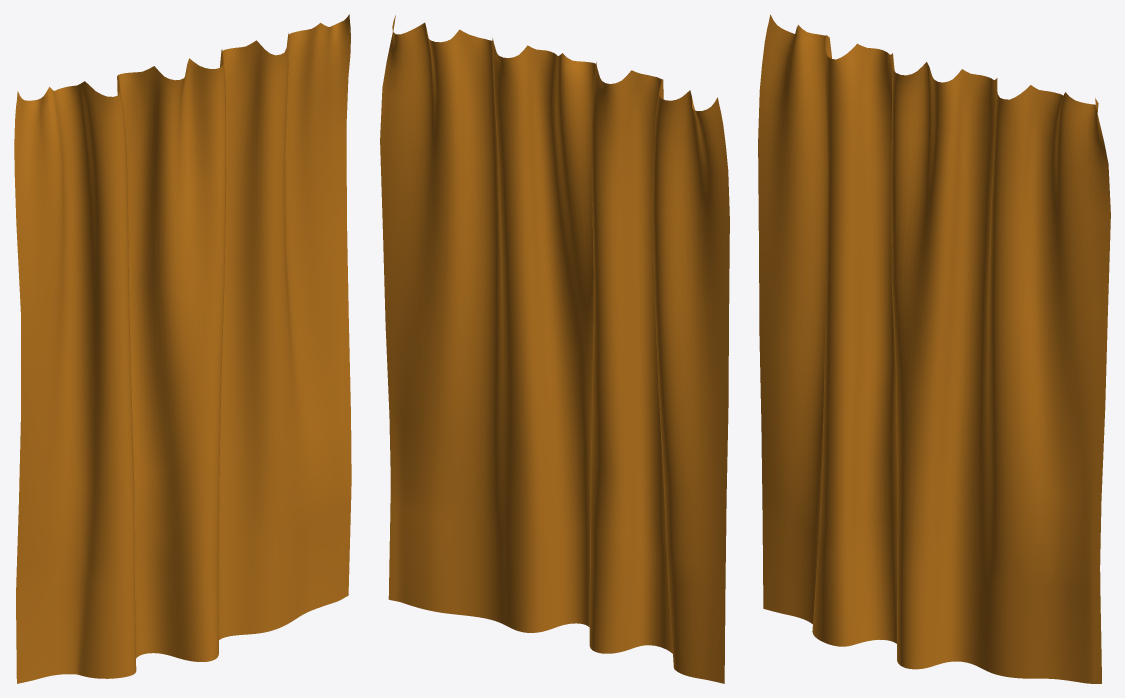
File: SM_Tule_01_OneSide.FBX
3 renders of one model, left to right at view 1: azimuth 30°, elevation 25°; view 2: azimuth 150°, elevation 25°; view 3: azimuth 330°, elevation 25°, orthographic.
Visible parts, largest first — view 1: SM_Tule_01_OneSide; view 2: SM_Tule_01_OneSide; view 3: SM_Tule_01_OneSide.
Boxes of the visible parts, x1,y1,x2,y2 form: SM_Tule_01_OneSide: [14, 14, 351, 683]; SM_Tule_01_OneSide: [380, 15, 729, 683]; SM_Tule_01_OneSide: [758, 14, 1110, 683].
Bounding box in the file's own units: 157 × 260 × 26.73.
